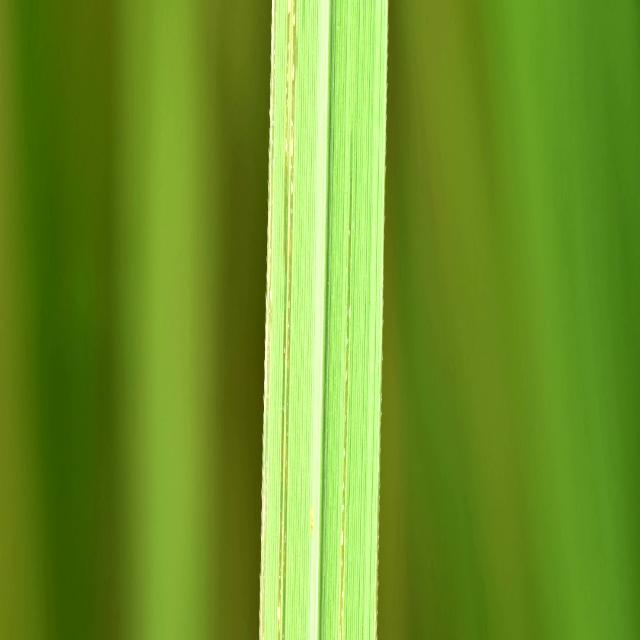BLS: (282, 0, 298, 637), (262, 0, 276, 638), (278, 0, 290, 636), (340, 133, 353, 636)
